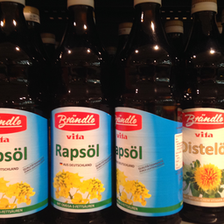oil: (112, 1, 186, 223), (48, 1, 114, 224), (1, 1, 49, 224), (178, 2, 224, 219)
